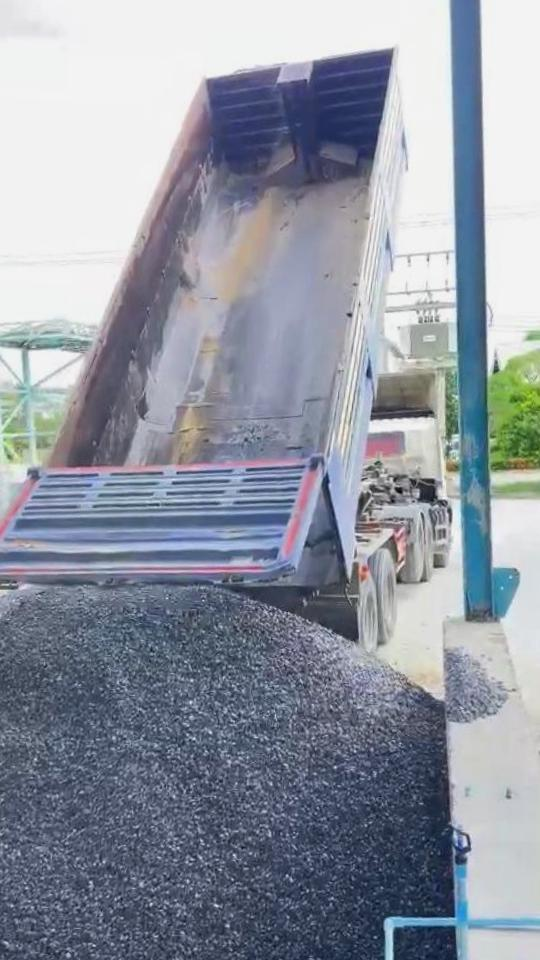gravel: (0, 588, 453, 960), (446, 647, 509, 722), (398, 933, 455, 960)
